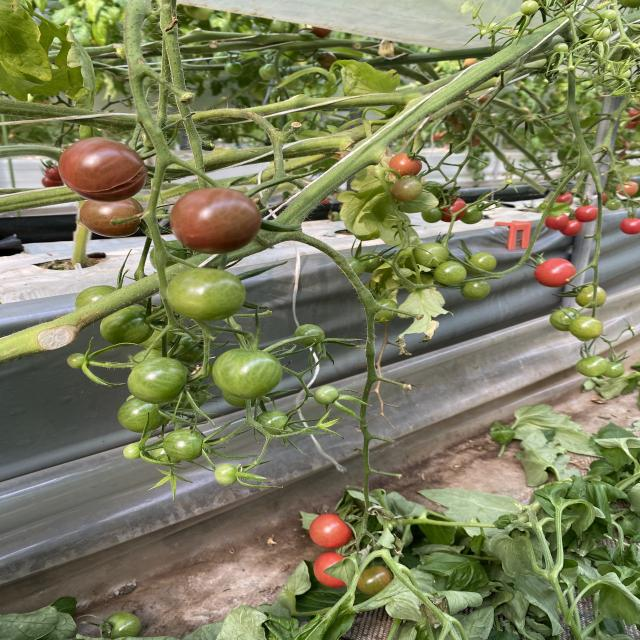c-half-riped: (170, 188, 262, 254), (58, 136, 148, 202), (80, 198, 144, 238), (357, 565, 393, 596), (389, 153, 422, 177)
c-riped: (308, 513, 352, 548), (534, 258, 576, 288), (314, 552, 346, 588), (436, 196, 467, 222), (544, 213, 570, 231), (574, 205, 600, 222), (560, 220, 583, 236), (619, 218, 640, 235)
c-unriped: (165, 267, 246, 321), (212, 348, 284, 400), (128, 358, 187, 404), (99, 305, 156, 347), (118, 396, 168, 434), (162, 429, 206, 460), (150, 240, 191, 272), (138, 316, 176, 348), (170, 381, 208, 411), (74, 285, 118, 310), (130, 348, 173, 372), (102, 612, 140, 639), (412, 242, 448, 268), (255, 410, 289, 437), (173, 336, 204, 365), (575, 284, 607, 309), (150, 442, 182, 467), (433, 261, 466, 285), (569, 316, 603, 339), (391, 177, 422, 202), (550, 308, 582, 332), (464, 252, 496, 274), (576, 355, 608, 377), (369, 299, 398, 322), (294, 324, 324, 346), (222, 390, 258, 408), (358, 251, 386, 274), (462, 280, 491, 300), (338, 258, 365, 278), (458, 204, 484, 224), (314, 385, 339, 405), (215, 464, 237, 486), (422, 206, 444, 224), (422, 181, 444, 199), (602, 362, 626, 378), (67, 352, 86, 368), (520, 0, 538, 15), (124, 444, 140, 459), (593, 27, 610, 40), (600, 9, 617, 22), (553, 43, 568, 53)
